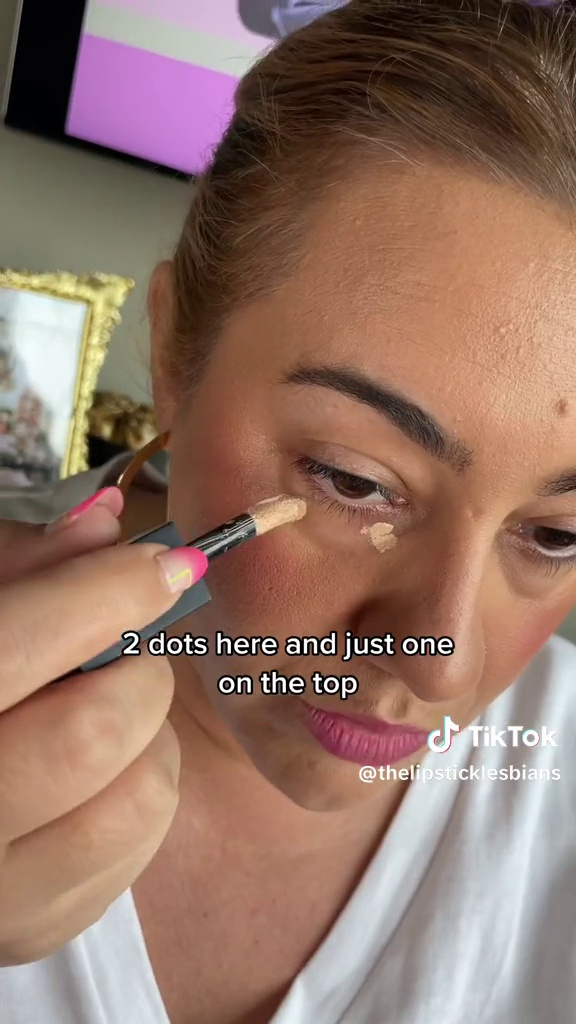train' :'yolo_data/train/images',: (60, 488, 328, 678)
